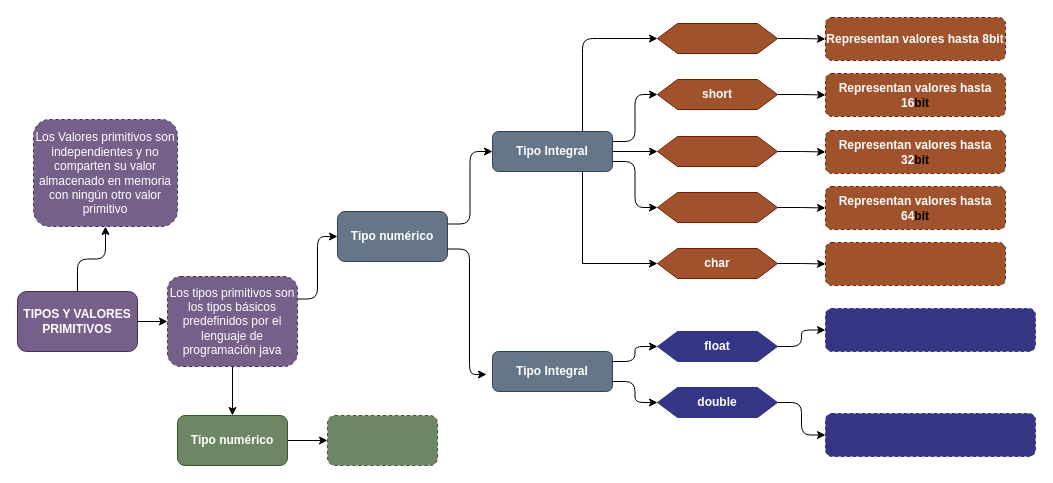
The diagram is 1053 pixels wide and 483 high, and some of its shapes have lost their labels. Here are the shapes that lost their labels. From the top down, the centre of each, then its label:
At [717,38]: "byte".
At [717,151]: "int".
At [717,207]: "long".
At [915,264]: "Valores de 16bit sin signo".
At [930,330]: "Números flotante de la IEEE de 32bit".
At [382,440]: "Tipo datos lógicos".
At [930,434]: "Números flotante de la IEEE de 64bit".
